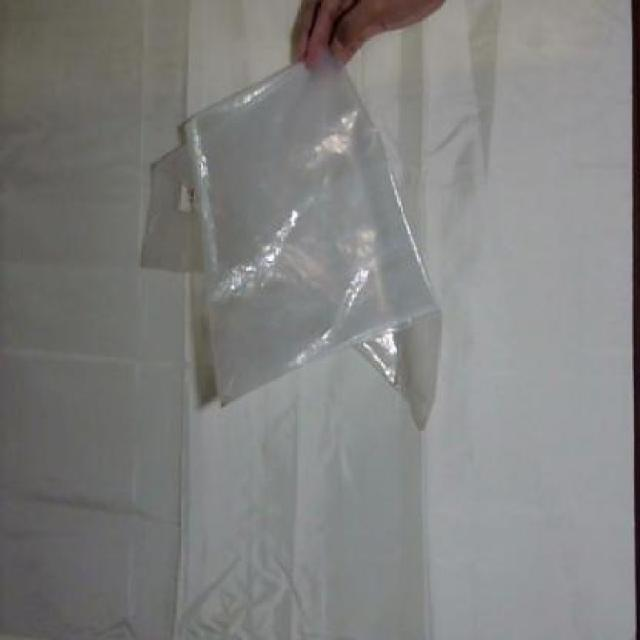Plastic: (128, 31, 472, 474)
